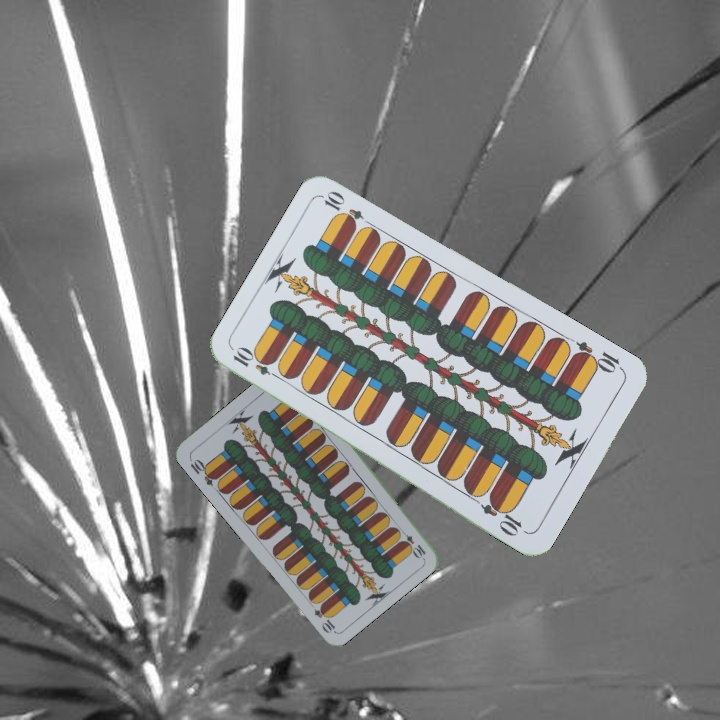E10: (569, 337, 626, 376), (228, 345, 285, 383), (185, 454, 220, 488), (395, 525, 428, 560)
